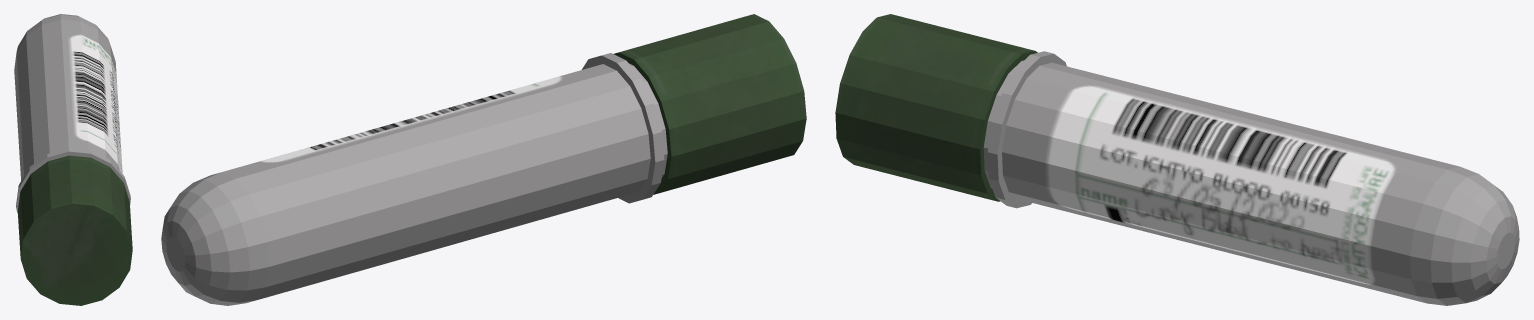
File: mesh41.dat.obj
3 renders of one model, left to right at view 1: azimuth 30°, elevation 25°; view 2: azimuth 150°, elevation 25°; view 3: azimuth 270°, elevation 25°, orthographic. The views are drawn at different scales.
Visible parts, largest first — view 1: CI_Vial; view 2: CI_Vial; view 3: CI_Vial.
Boxes of the visible parts, left/top/right/bottom form: CI_Vial: left=14, top=14, right=132, bottom=305; CI_Vial: left=161, top=14, right=806, bottom=305; CI_Vial: left=835, top=14, right=1519, bottom=305.
Size of the model in its own units: 0.5058 by 0.1825 by 0.7649.
1 material, 1 textured.
